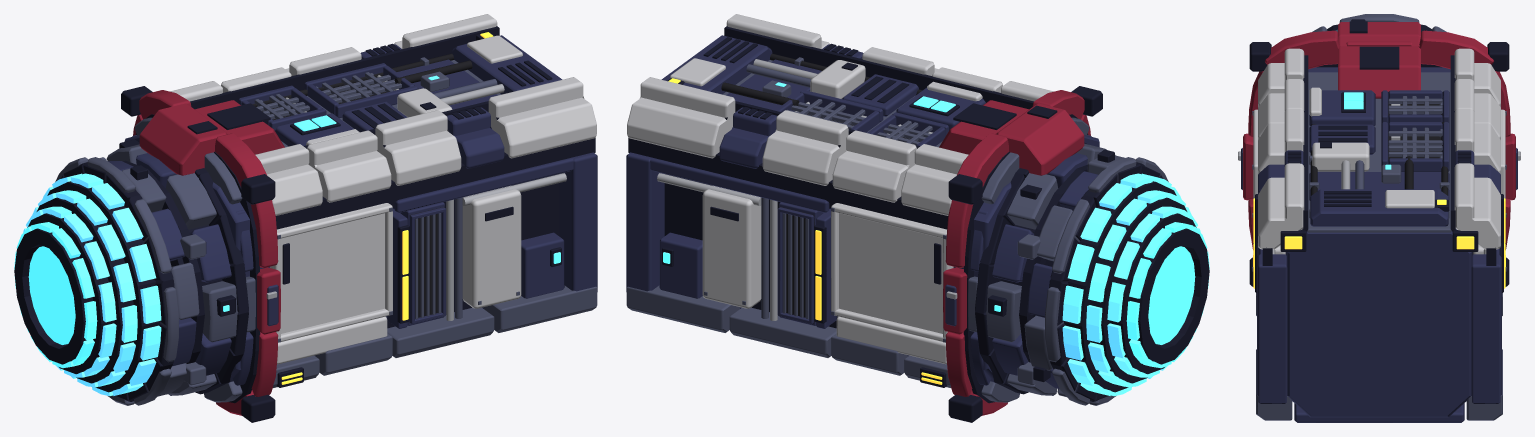
The model's file is engine.pod.w2.4.l5.z-0.75_1.6.glb.
3 views of the same model, side by side, from view 1: azimuth 30°, elevation 25°; view 2: azimuth 150°, elevation 25°; view 3: azimuth 270°, elevation 25° (orthographic).
Visible parts, largest first — view 1: engine.pod.w2.4.l5.z-0.75_1.6; view 2: engine.pod.w2.4.l5.z-0.75_1.6; view 3: engine.pod.w2.4.l5.z-0.75_1.6.
Part boxes in pixels (bbox=[...]): engine.pod.w2.4.l5.z-0.75_1.6: bbox=[14, 14, 597, 422]; engine.pod.w2.4.l5.z-0.75_1.6: bbox=[626, 14, 1209, 422]; engine.pod.w2.4.l5.z-0.75_1.6: bbox=[1238, 14, 1520, 422].
Bounding box in the file's own units: 5.69 × 2.99 × 2.86.
